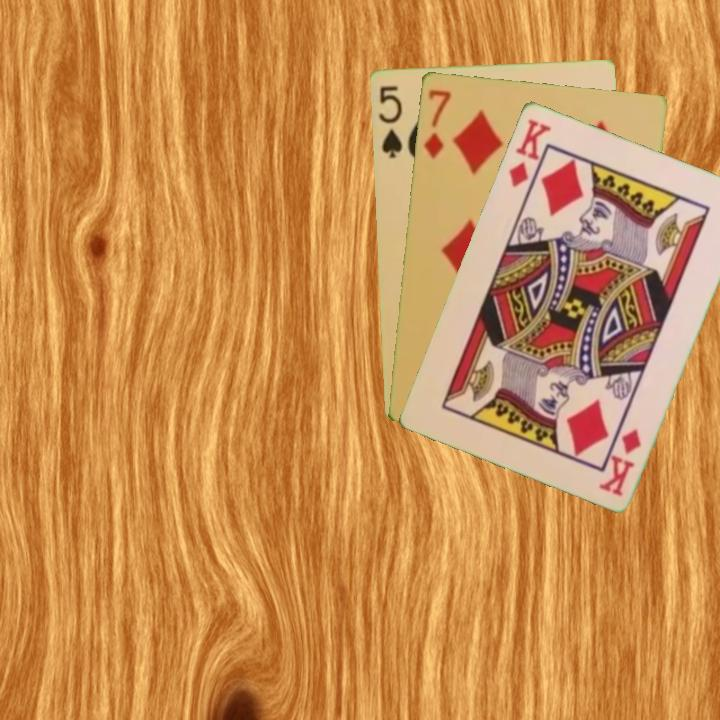5s: (375, 81, 405, 161)
7d: (420, 85, 454, 161)
Kd: (505, 114, 554, 198), (596, 424, 645, 499)
